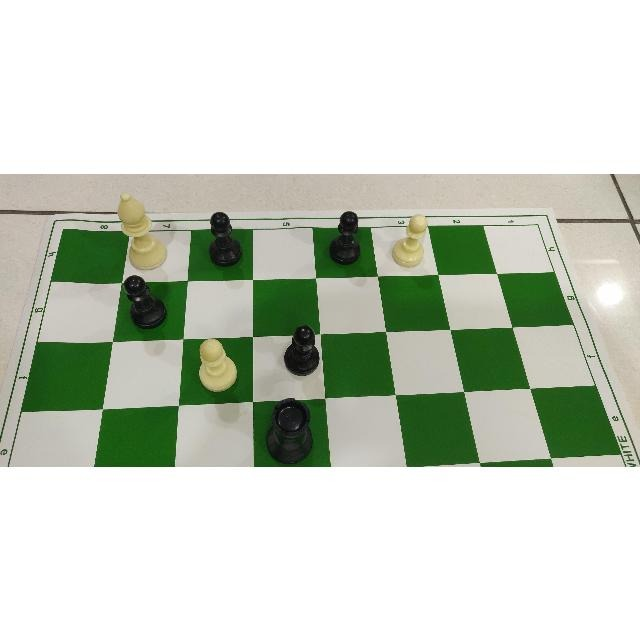black-pawn: (120, 272, 170, 329), (120, 271, 170, 328), (200, 206, 244, 269), (200, 207, 243, 269), (280, 317, 322, 378), (281, 317, 320, 378), (329, 209, 363, 266)
black-rook: (264, 393, 316, 464), (264, 393, 315, 464), (328, 208, 364, 267)
white-bishop: (113, 188, 170, 271), (114, 187, 169, 270)
white-pawn: (191, 334, 241, 393), (191, 336, 241, 394), (388, 208, 430, 270), (389, 209, 429, 267)
